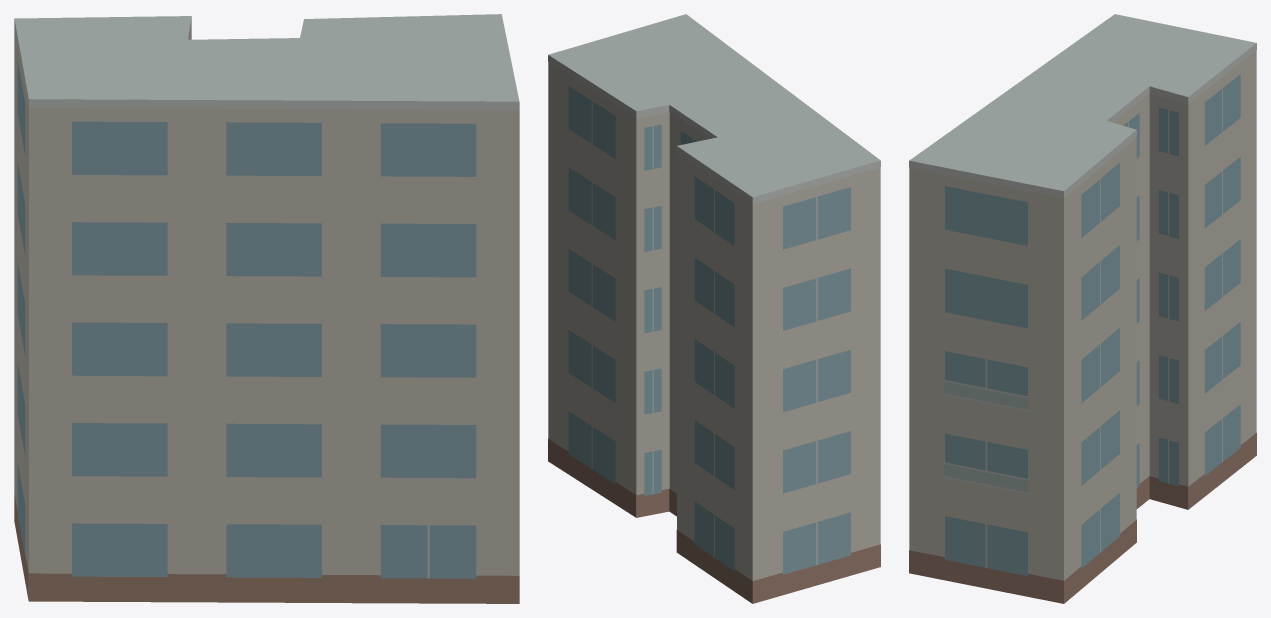
Rendered from survey-upis-32740994.glb.
3 views of the same model, side by side, from view 1: azimuth 30°, elevation 25°; view 2: azimuth 150°, elevation 25°; view 3: azimuth 270°, elevation 25° (orthographic). The views are drawn at different scales.
Visible parts, largest first — view 1: survey-upis-32740994.tmp; view 2: survey-upis-32740994.tmp; view 3: survey-upis-32740994.tmp.
Boxes of the visible parts, left/top/right/bottom form: survey-upis-32740994.tmp: left=14, top=14, right=519, bottom=603; survey-upis-32740994.tmp: left=548, top=14, right=880, bottom=603; survey-upis-32740994.tmp: left=909, top=14, right=1256, bottom=603.
Size of the model in its own units: 12.99 by 14.1 by 10.77.
